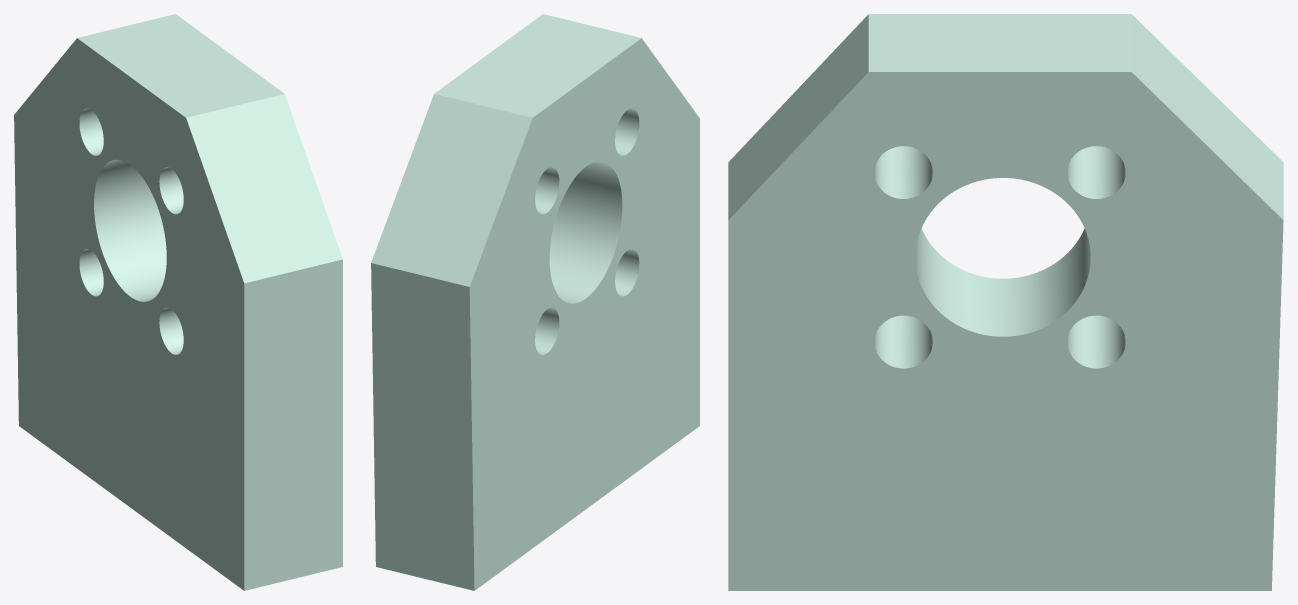
3 renders of one model, left to right at view 1: azimuth 30°, elevation 25°; view 2: azimuth 150°, elevation 25°; view 3: azimuth 270°, elevation 25°, orthographic. The views are drawn at different scales.
Parts seen in each view (by area): view 1: Renderer Node; view 2: Renderer Node; view 3: Renderer Node.
Boxes of the visible parts, box(x1,y1,x2,y2) form: Renderer Node: box(14, 14, 342, 590); Renderer Node: box(371, 14, 699, 590); Renderer Node: box(728, 14, 1283, 590).
Size of the model in its own units: 0.1797 by 0.7495 by 0.7266.
